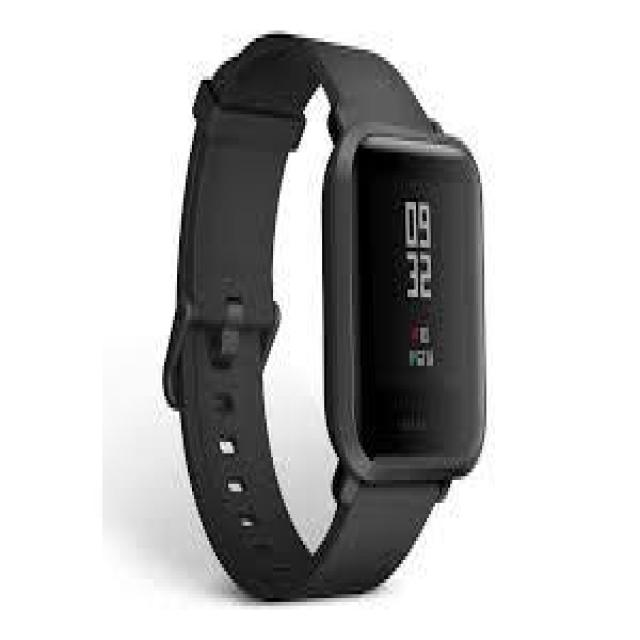watch: (161, 25, 514, 615)
